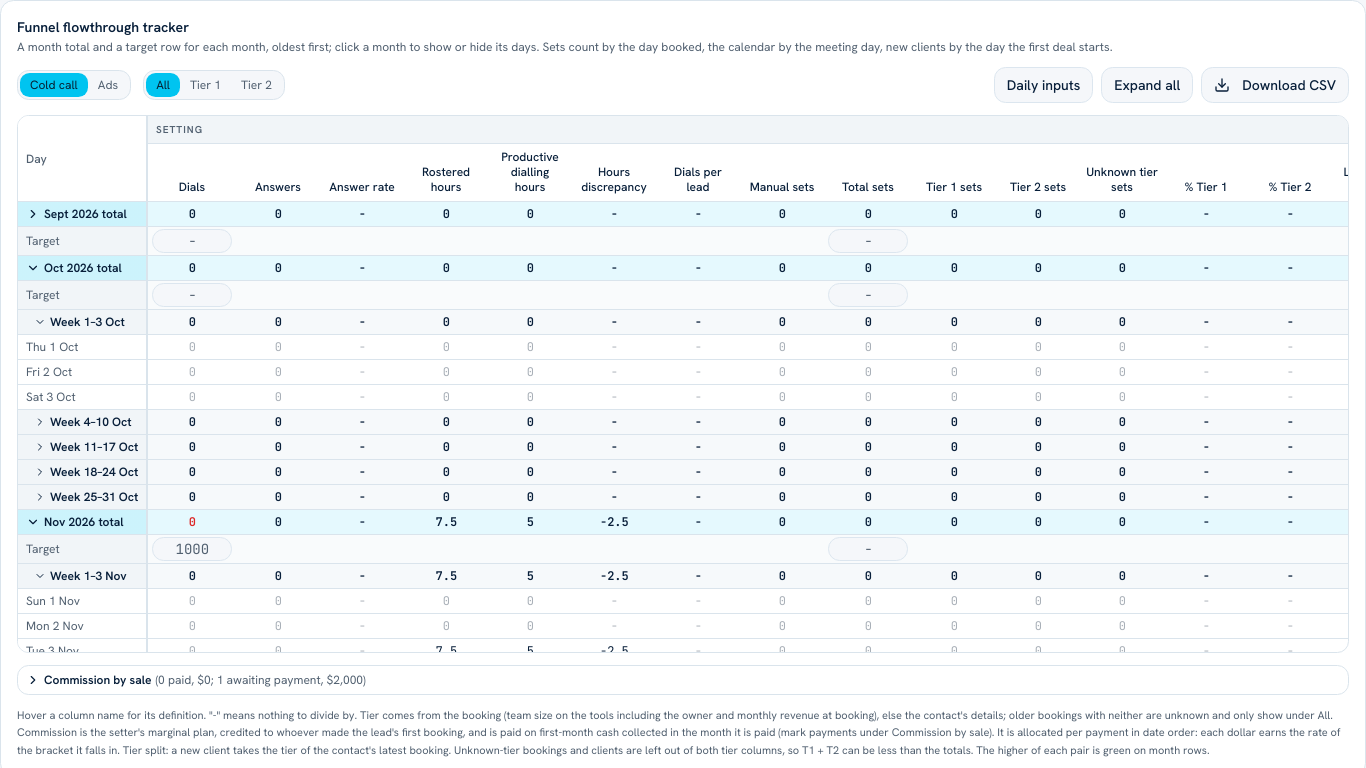
it: FunnelTracker › stacks months oldest first, collapsed except the current month, and toggles on click
This screenshot has width=1366, height=768.
Earlier steps of the test are not shown.
Expected: the text "Thu 1 Oct" is shown, [18,335,147,360]
Expected: the text "Sun 4 Oct" is not shown
Click the button "Week 1–3 Oct". click: coordinates (75, 322)
box: [22,314,129,330]
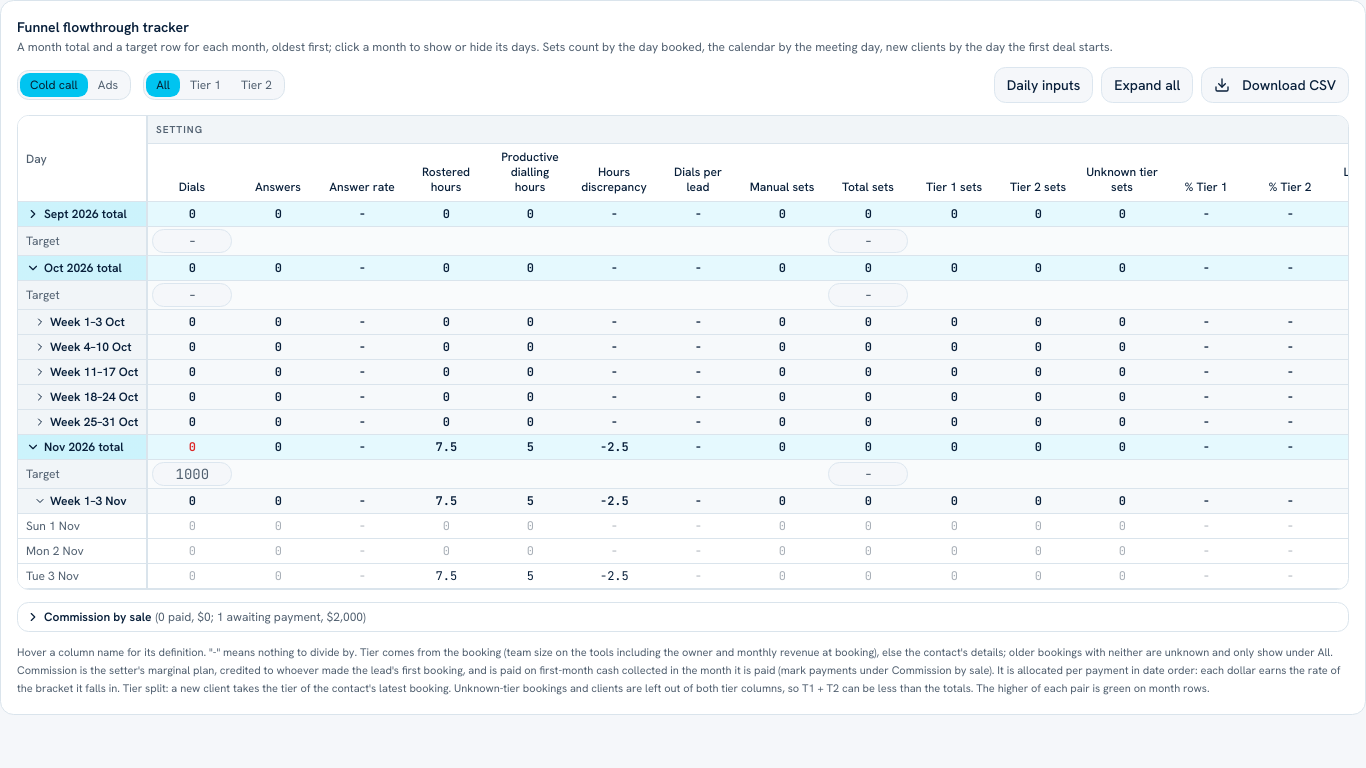
Now the text "Thu 1 Oct" is gone
Click the button "Oct 2026 total". click: coordinates (74, 268)
box: [22,260,126,276]
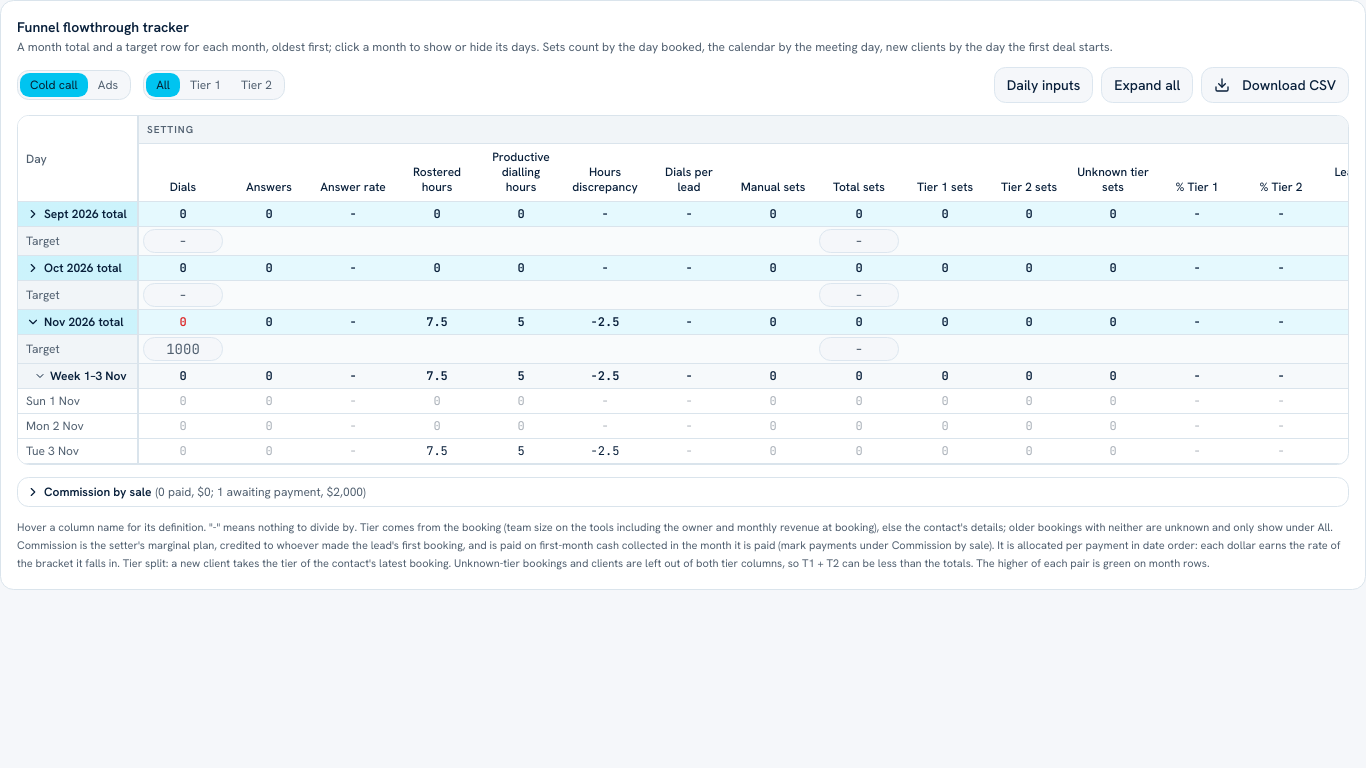
Expected: the text "Thu 1 Oct" is not shown
Click the button "Expand all". click: coordinates (1147, 85)
box: [1101,67,1193,103]
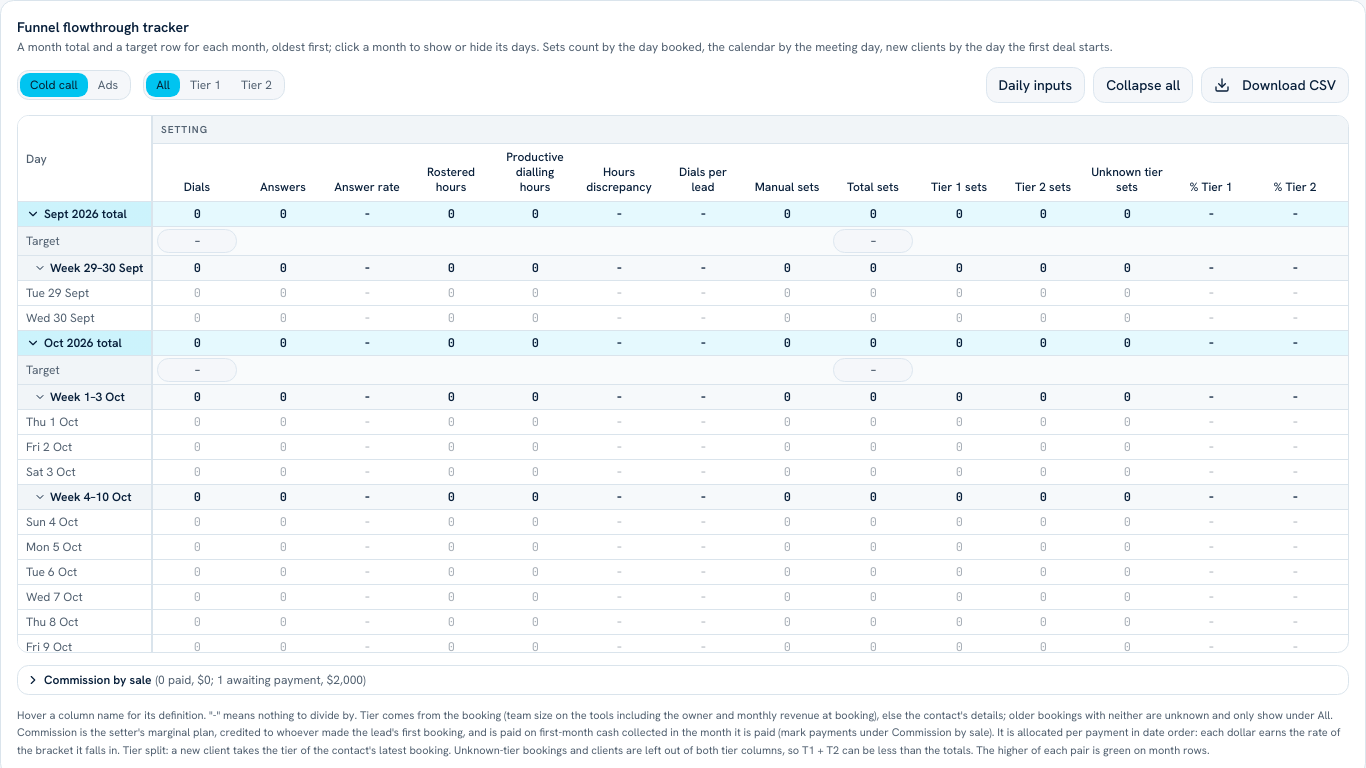
Now the text "Tue 29 Sept" is shown, box [18,281,152,306]
Now the text "Sun 4 Oct" is shown, box [18,510,152,535]
Click the button "Collapse all". click: coordinates (1143, 85)
box: [1093,67,1193,103]
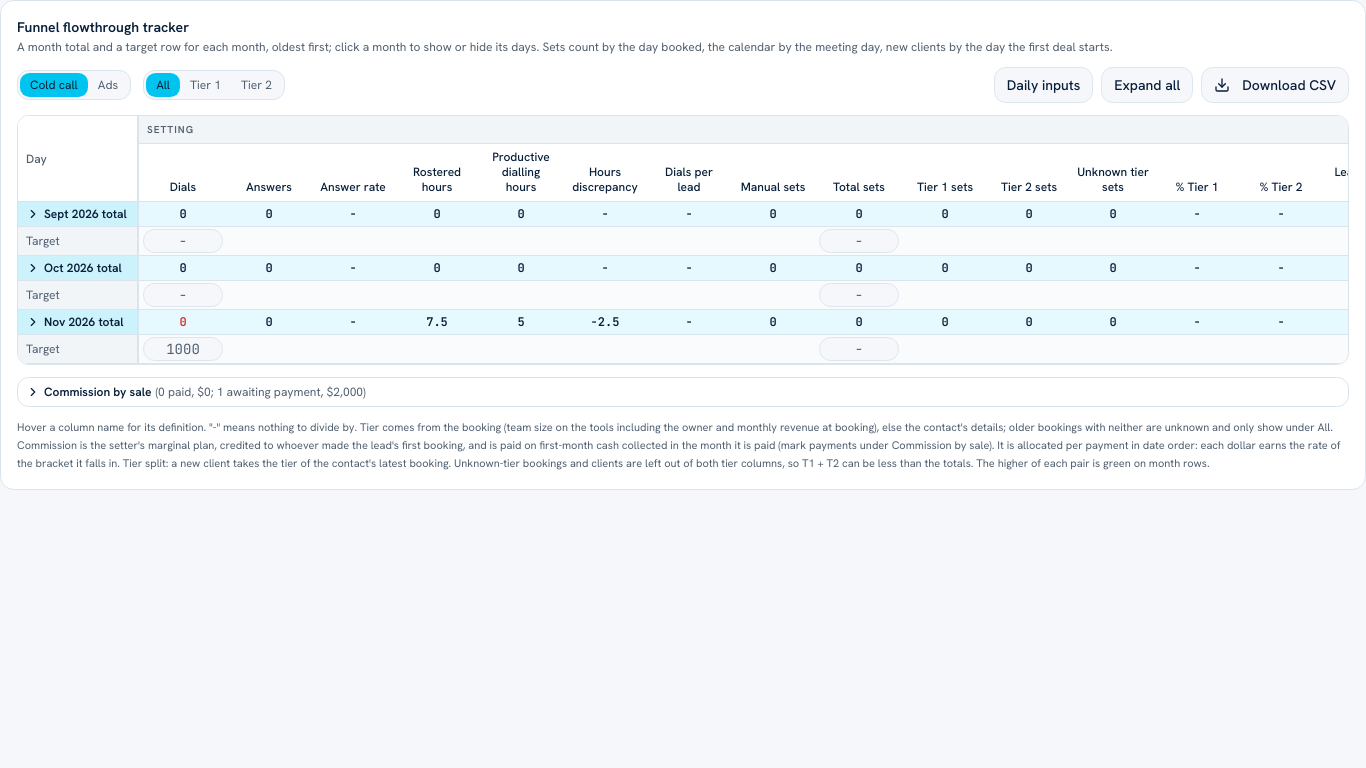
Expected: the text "Tue 3 Nov" is not shown
Now the text "Target" is shown 3 times, box [18,227,138,256]; [18,281,138,310]; [18,335,138,364]
